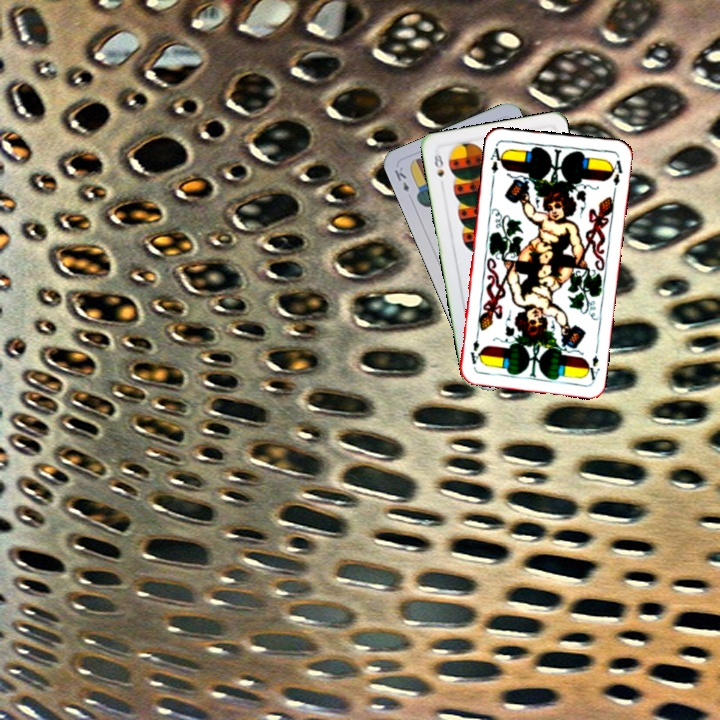EA: (582, 342, 602, 383), (486, 140, 507, 176)
EK: (390, 163, 412, 195)
S8: (430, 148, 446, 180)
